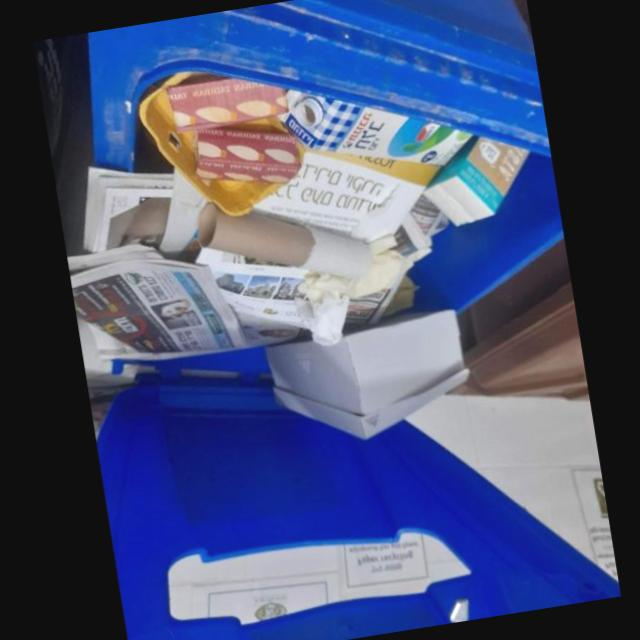carton: (264, 308, 470, 440), (198, 203, 373, 280), (423, 135, 530, 227), (167, 73, 289, 133), (197, 129, 301, 183)
giay: (67, 244, 296, 360), (298, 251, 404, 346)
vo_hop_sua: (278, 89, 473, 166)
